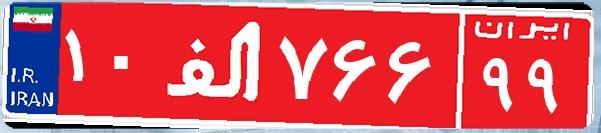0: (110, 28, 158, 105)
1: (57, 26, 110, 107)
6: (385, 28, 445, 110), (330, 28, 385, 110)
7: (273, 28, 330, 110)
9: (475, 38, 525, 113), (525, 38, 570, 115)
الف: (158, 15, 273, 115)
